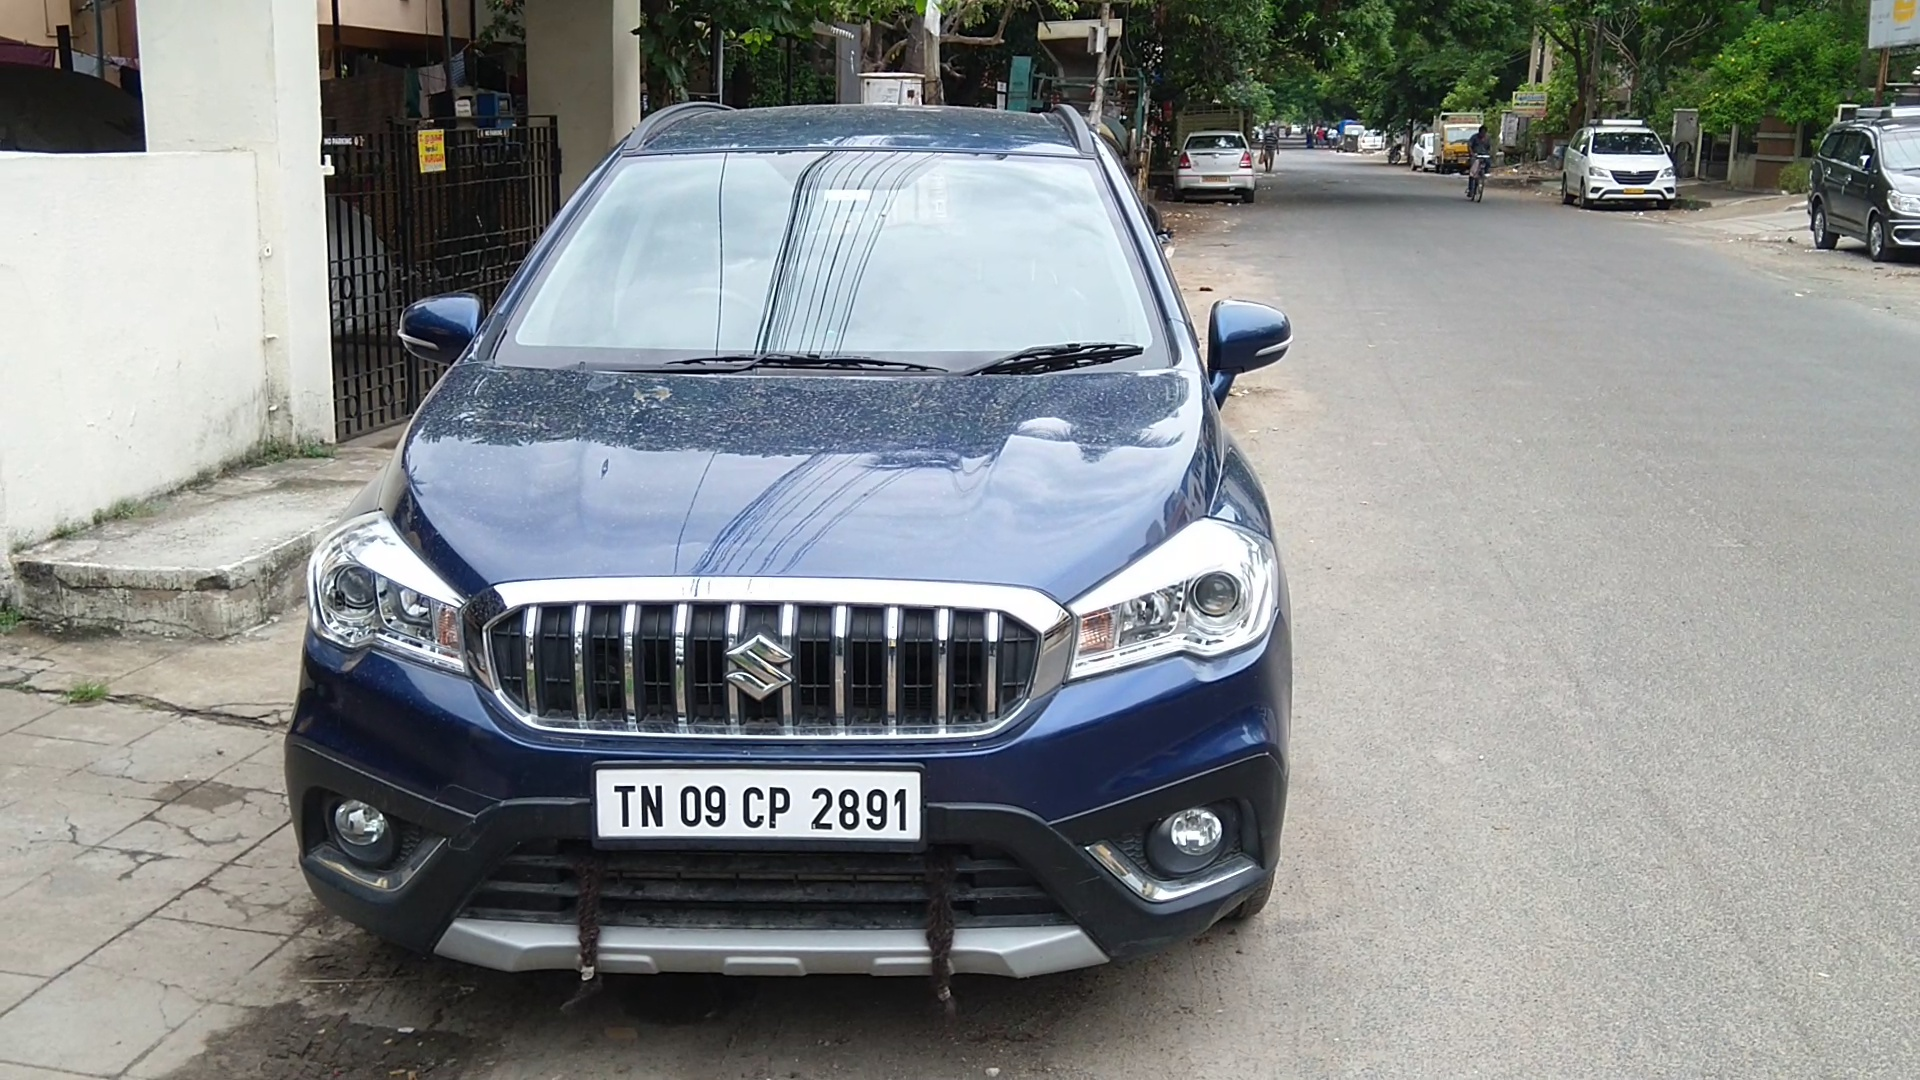front_grill: (469, 572, 1063, 749)
headlamp: (1065, 510, 1284, 690), (301, 513, 467, 667)
ovr_mirror: (1211, 287, 1298, 381), (392, 299, 481, 363)
